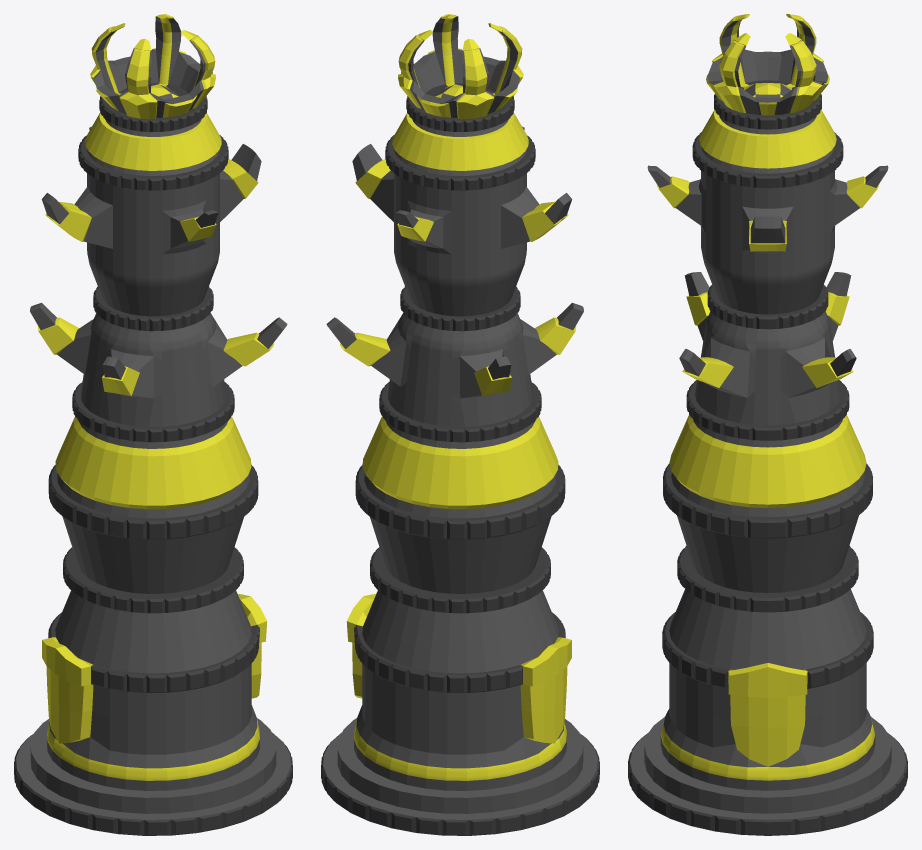
Rendered from CenterTower.fbx.
The picture shows the model from 3 angles, left to right: view 1: azimuth 30°, elevation 25°; view 2: azimuth 150°, elevation 25°; view 3: azimuth 270°, elevation 25°; orthographic projection.
Parts seen in each view (by area): view 1: Cylinder.002; view 2: Cylinder.002; view 3: Cylinder.002.
Part boxes in pixels (box(x1,y1,x2,y2)): Cylinder.002: box(14, 14, 292, 835); Cylinder.002: box(321, 14, 599, 835); Cylinder.002: box(628, 14, 907, 835).
Bounding box in the file's own units: 889 × 2643 × 889.
